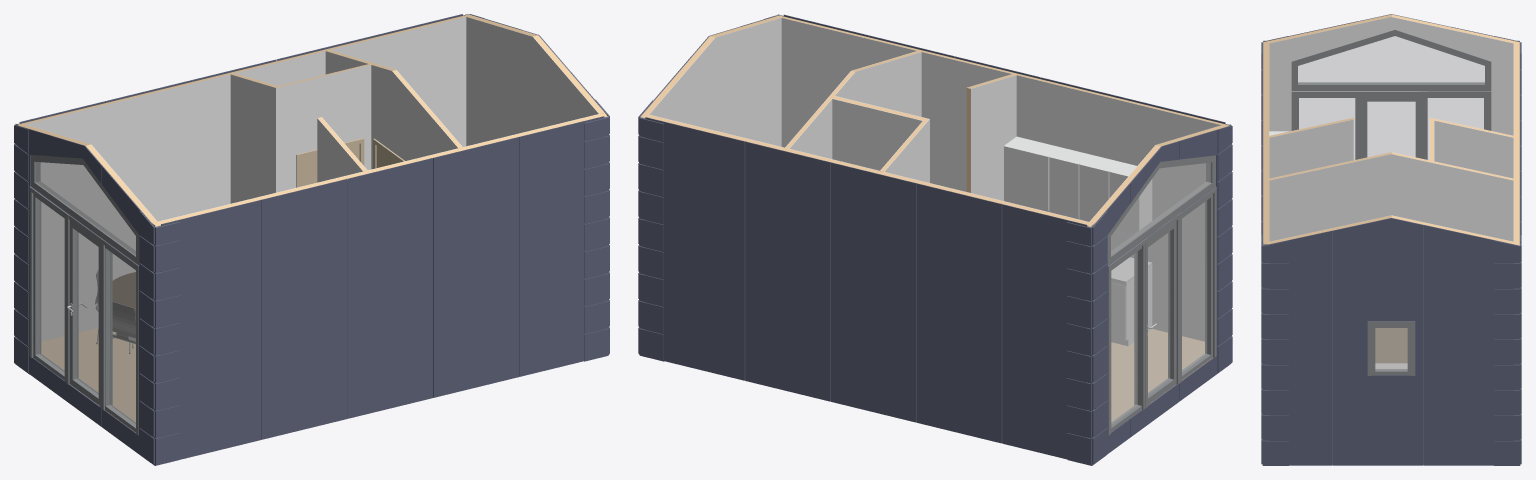
Rendered from Pirtys (3,2x8,0m) be terasos.fbx.
The picture shows the model from 3 angles, left to right: view 1: azimuth 30°, elevation 25°; view 2: azimuth 150°, elevation 25°; view 3: azimuth 270°, elevation 25°; orthographic projection. The views are drawn at different scales.
Visible parts, largest first — view 1: IfcWall/Part:3188568, IfcPlate/System Panel:Sandwich užbaigimas Multisplit:3483089, IfcPlate/System Panel:Sandwich užbaigimas Multisplit:3483091, IfcPlate/System Panel:Sandwich užbaigimas Multisplit:3483093, IfcPlate/System Panel:Sandwich užbaigimas Multisplit:3483095, IfcPlate/System Panel:Sandwich užbaigimas Multisplit:3483081, IfcBuildingElementProxy/Kampai Kvadratiniai - line based1:M. (×3), IfcWall/Part:3452999, IfcWall/Part:3460136, IfcWindow/Langai (Akrusta):800x2100x80:3404889, IfcDoor/Durys išorinės:800x2100x80 (kairinės):3458927, IfcWindow/Langai (Akrusta):800x2100x80:3433472 (+16 smaller); view 2: IfcWall/Part:3188574, IfcPlate/System Panel:Sandwich užbaigimas Multisplit:3483122, IfcPlate/System Panel:Sandwich užbaigimas Multisplit:3483124, IfcPlate/System Panel:Sandwich užbaigimas Multisplit:3483126, IfcPlate/System Panel:Sandwich užbaigimas Multisplit:3483128, IfcPlate/System Panel:Sandwich užbaigimas Multisplit:3483119, IfcBuildingElementProxy/Kampai Kvadratiniai - line based1:M. (×3), IfcWall/Part:3452999, IfcWindow/Langai (Akrusta):800x2100x80:3433472, IfcDoor/Durys išorinės:800x2100x80 (kairinės):3458927, IfcWindow/Langai (Akrusta):800x2100x80:3404889, IfcBuildingElementProxy/Kampai Kvadratiniai - line based1:M (+24 smaller); view 3: IfcPlate/System Panel:Sandwich užbaigimas Multisplit:3483085, IfcPlate/System Panel:Sandwich užbaigimas Multisplit:3483080, IfcWall/Part:3403102, IfcBuildingElementProxy/Kampai Kvadratiniai - line based1:M. (×4), IfcPlate/System Panel:Sandwich užbaigimas Multisplit:3483087, IfcWindow/langas trapecija:langas trapecija:3435326, IfcWall/Part:3188565, IfcDoor/Durys išorinės:800x2100x80 (kairinės):3458927, IfcWall/Part:3402633, IfcWall/Part:3458037, IfcWindow/Langai (Akrusta):500x700x80 2:3404482, IfcWindow/Langai (Akrusta):800x2100x80:3404889 (+10 smaller).
Part boxes in pixels (x1,y1,x2,y2): IfcWall/Part:3188568: [25, 17, 466, 341]; IfcPlate/System Panel:Sandwich užbaigimas Multisplit:3483089: [433, 137, 518, 397]; IfcPlate/System Panel:Sandwich užbaigimas Multisplit:3483091: [347, 158, 432, 418]; IfcPlate/System Panel:Sandwich užbaigimas Multisplit:3483093: [261, 179, 346, 439]; IfcPlate/System Panel:Sandwich užbaigimas Multisplit:3483095: [175, 200, 261, 460]; IfcPlate/System Panel:Sandwich užbaigimas Multisplit:3483081: [519, 116, 604, 376]; IfcBuildingElementProxy/Kampai Kvadratiniai - line based1:M. (×3): [14, 116, 609, 465]; IfcWall/Part:3452999: [466, 17, 598, 146]; IfcWall/Part:3460136: [276, 65, 371, 192]; IfcWindow/Langai (Akrusta):800x2100x80:3404889: [29, 186, 69, 384]; IfcDoor/Durys išorinės:800x2100x80 (kairinės):3458927: [64, 215, 112, 410]; IfcWindow/Langai (Akrusta):800x2100x80:3433472: [99, 238, 138, 435]; IfcWall/Part:3188574: [781, 18, 1221, 341]; IfcPlate/System Panel:Sandwich užbaigimas Multisplit:3483122: [916, 183, 1002, 443]; IfcPlate/System Panel:Sandwich užbaigimas Multisplit:3483124: [831, 162, 916, 422]; IfcPlate/System Panel:Sandwich užbaigimas Multisplit:3483126: [745, 141, 830, 401]; IfcPlate/System Panel:Sandwich užbaigimas Multisplit:3483128: [659, 120, 745, 380]; IfcPlate/System Panel:Sandwich užbaigimas Multisplit:3483119: [1002, 204, 1087, 464]; IfcBuildingElementProxy/Kampai Kvadratiniai - line based1:M. (×3): [639, 117, 1232, 465]; IfcWall/Part:3452999: [649, 18, 781, 146]; IfcWindow/Langai (Akrusta):800x2100x80:3433472: [1176, 187, 1216, 384]; IfcDoor/Durys išorinės:800x2100x80 (kairinės):3458927: [1134, 212, 1181, 409]; IfcWindow/Langai (Akrusta):800x2100x80:3404889: [1108, 238, 1147, 435]; IfcBuildingElementProxy/Kampai Kvadratiniai - line based1:M: [1066, 222, 1091, 465]; IfcPlate/System Panel:Sandwich užbaigimas Multisplit:3483085: [1332, 218, 1423, 465]; IfcPlate/System Panel:Sandwich užbaigimas Multisplit:3483080: [1423, 225, 1513, 465]; IfcWall/Part:3403102: [1269, 154, 1513, 241]; IfcBuildingElementProxy/Kampai Kvadratiniai - line based1:M. (×4): [1261, 235, 1521, 465]; IfcPlate/System Panel:Sandwich užbaigimas Multisplit:3483087: [1269, 231, 1331, 465]; IfcWindow/langas trapecija:langas trapecija:3435326: [1291, 30, 1491, 90]; IfcWall/Part:3188565: [1269, 17, 1513, 135]; IfcDoor/Durys išorinės:800x2100x80 (kairinės):3458927: [1355, 91, 1427, 159]; IfcWall/Part:3402633: [1269, 119, 1353, 178]; IfcWall/Part:3458037: [1434, 120, 1513, 178]; IfcWindow/Langai (Akrusta):500x700x80 2:3404482: [1367, 321, 1415, 375]; IfcWindow/Langai (Akrusta):800x2100x80:3404889: [1420, 91, 1491, 159].
Bounding box in the file's own units: 608 × 341 × 324.
